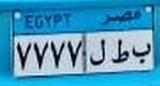7: (15, 39, 31, 73), (31, 40, 48, 71), (67, 39, 82, 69), (50, 39, 65, 69)
Taa: (110, 38, 129, 66)
baa: (130, 39, 152, 65)
laam: (89, 36, 108, 68)
